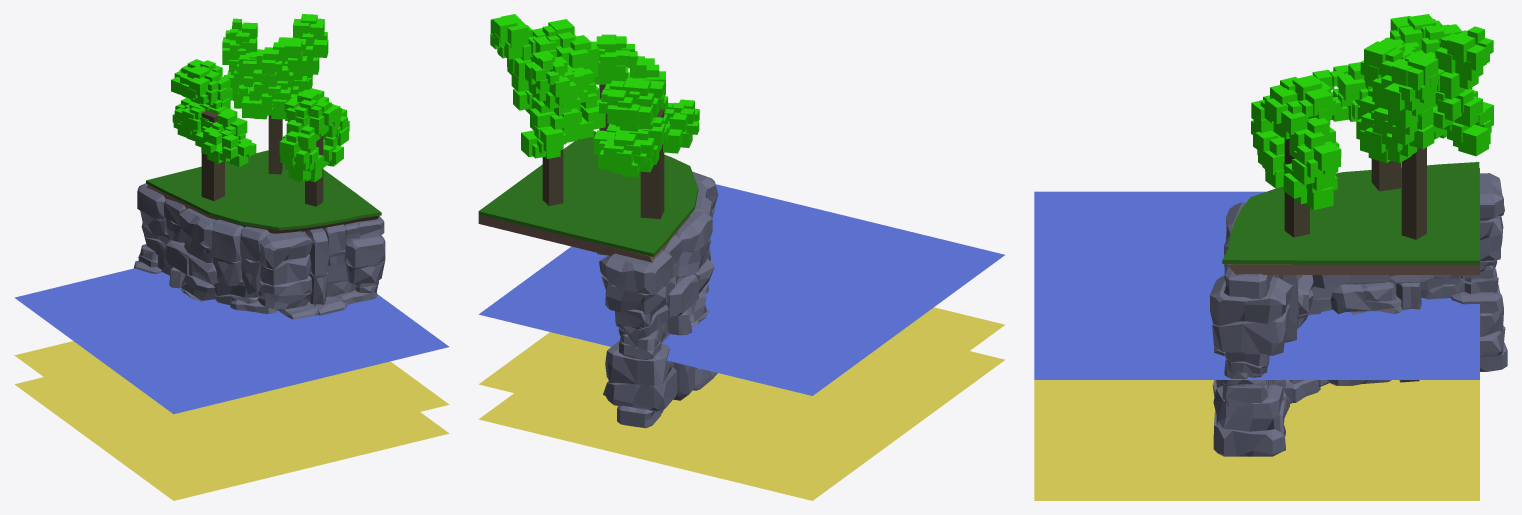
File: 31__tile.fbx
3 views of the same model, side by side, from view 1: azimuth 30°, elevation 25°; view 2: azimuth 150°, elevation 25°; view 3: azimuth 270°, elevation 25° (orthographic). The views are drawn at different scales.
Visible parts, largest first — view 1: 31__tile; view 2: 31__tile; view 3: 31__tile.
Boxes of the visible parts, x1,y1,x2,y2 form: 31__tile: (14,14,449,500); 31__tile: (478,14,1005,500); 31__tile: (1034,14,1507,500).
Size of the model in its own units: 209 by 218 by 212.
